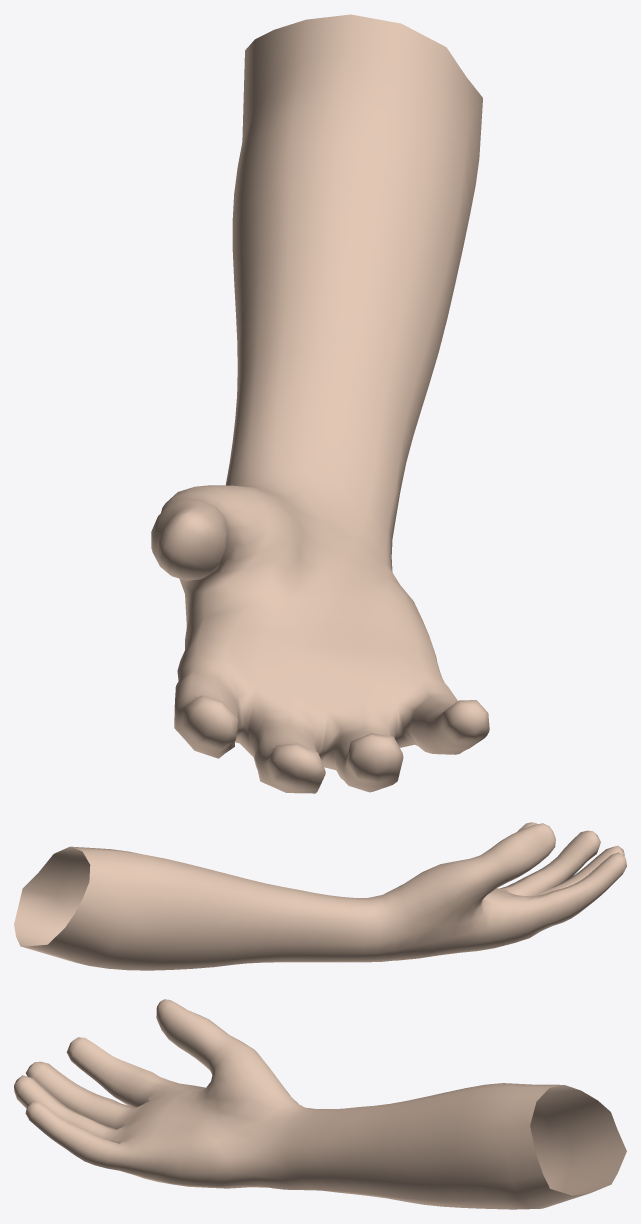
The model's file is TallmanArm-PH.fbx.
3 views of the same model, one above another, from view 1: azimuth 30°, elevation 25°; view 2: azimuth 150°, elevation 25°; view 3: azimuth 270°, elevation 25° (orthographic). The views are drawn at different scales.
Visible parts, largest first — view 1: HumanBody:humanBody; view 2: HumanBody:humanBody; view 3: HumanBody:humanBody.
Part boxes in pixels (bbox=[...]): HumanBody:humanBody: bbox=[151, 14, 489, 793]; HumanBody:humanBody: bbox=[14, 822, 626, 970]; HumanBody:humanBody: bbox=[14, 999, 626, 1209].
Bounding box in the file's own units: 0.3133 × 0.1434 × 0.4372.
